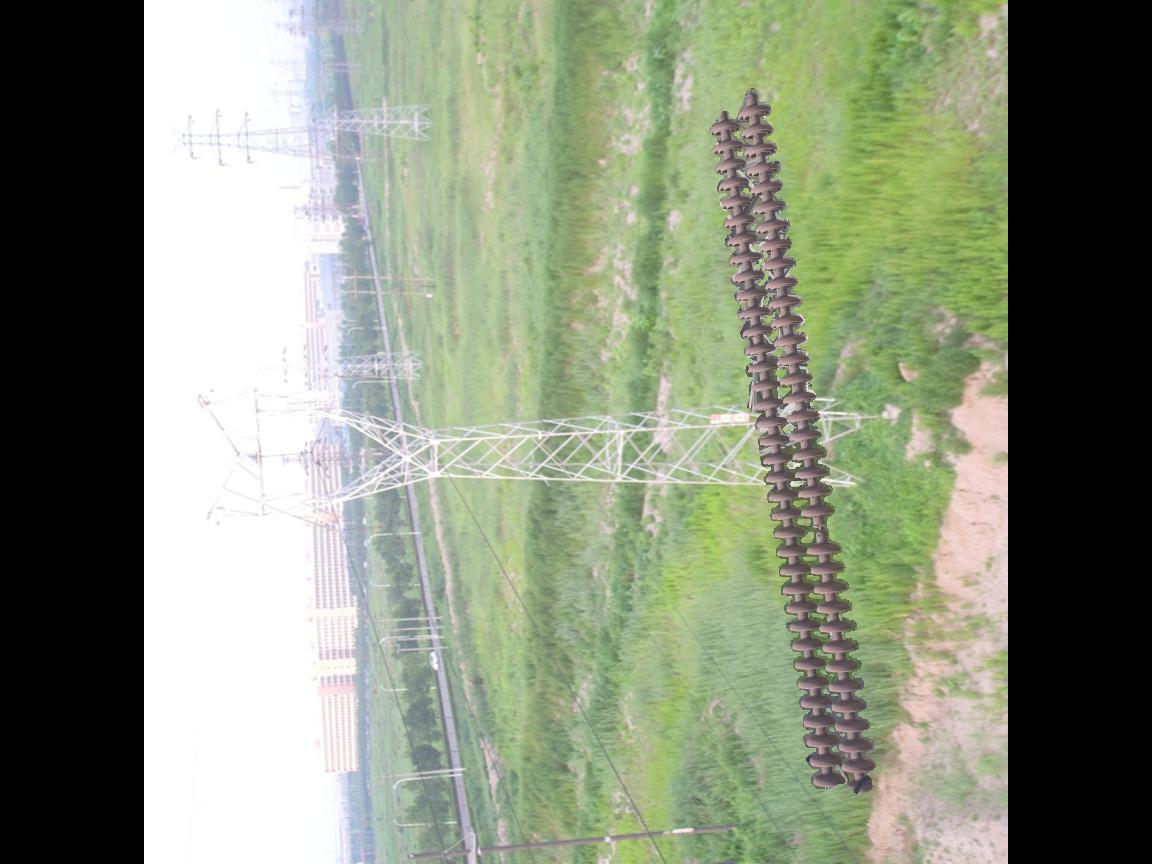insulator: (708, 97, 879, 797)
insulator_stringdrop: (798, 502, 844, 560)
